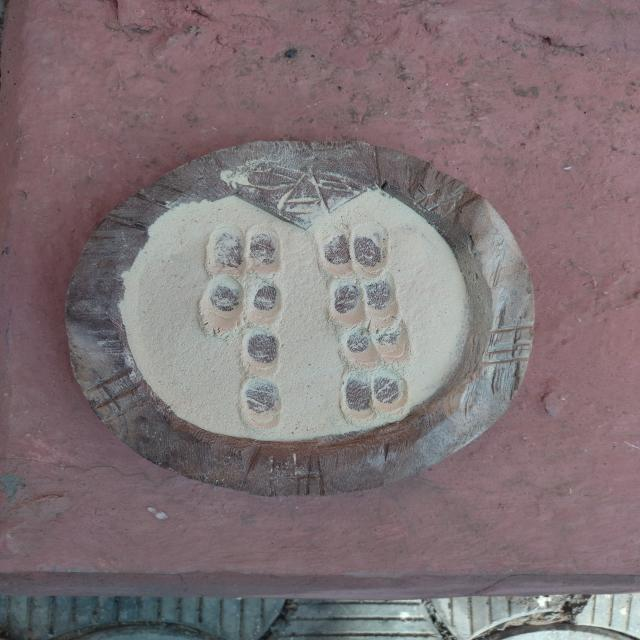double: (198, 276, 286, 328), (204, 224, 286, 277), (316, 224, 392, 275), (326, 273, 401, 324), (341, 364, 408, 421), (340, 318, 412, 364)
single: (237, 377, 285, 433), (240, 325, 286, 377)
